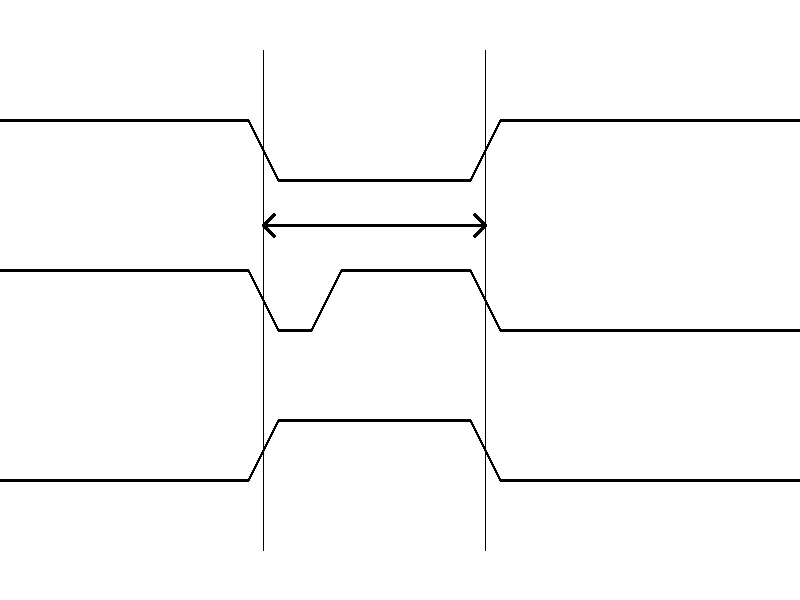double_arrow: (263, 210, 485, 240)
